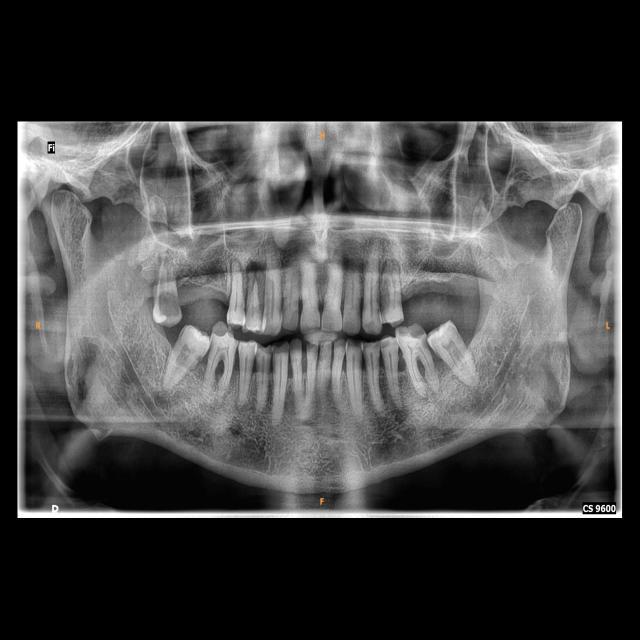dentin-curugu: (158, 289, 178, 322), (379, 275, 391, 313), (402, 325, 425, 341), (212, 321, 230, 337)
kok-enfeksiyonu: (243, 257, 272, 285)
